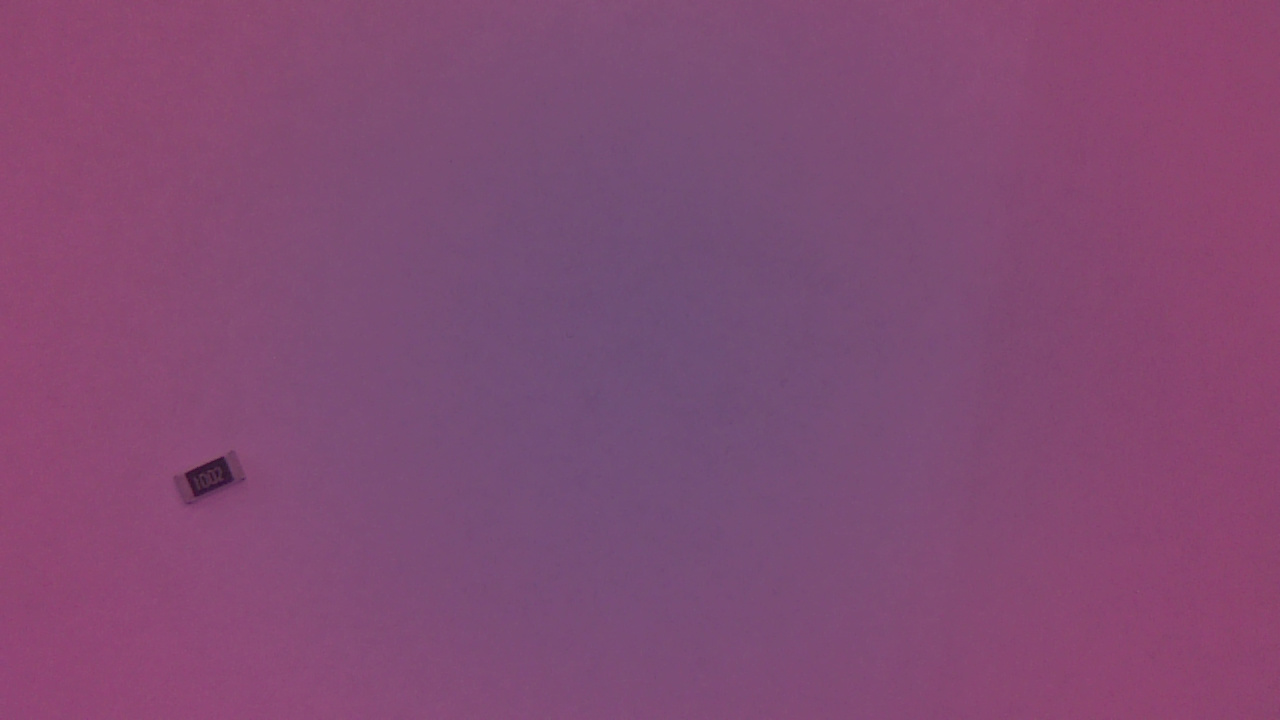Resistor: (173, 449, 257, 515)
